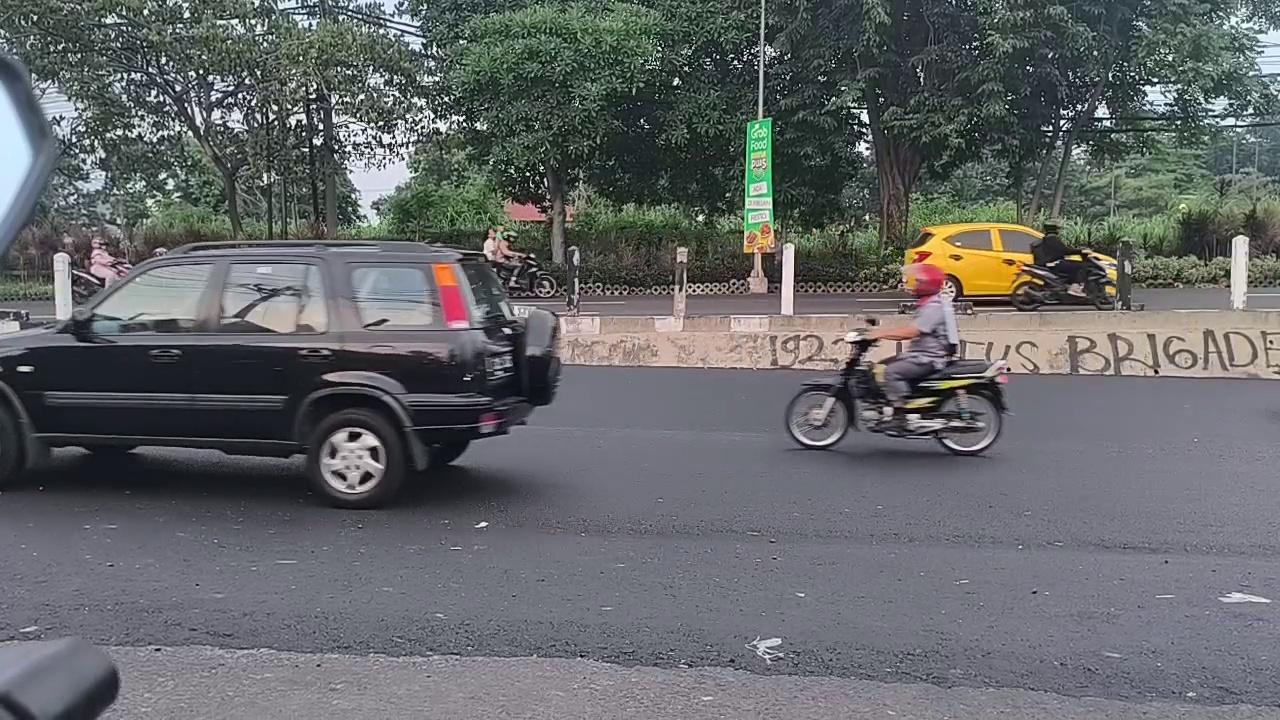Helmet: (868, 264, 958, 431), (1031, 218, 1086, 296)
Motor: (786, 319, 1007, 455), (1010, 252, 1115, 310), (498, 254, 558, 297), (70, 266, 105, 304)
